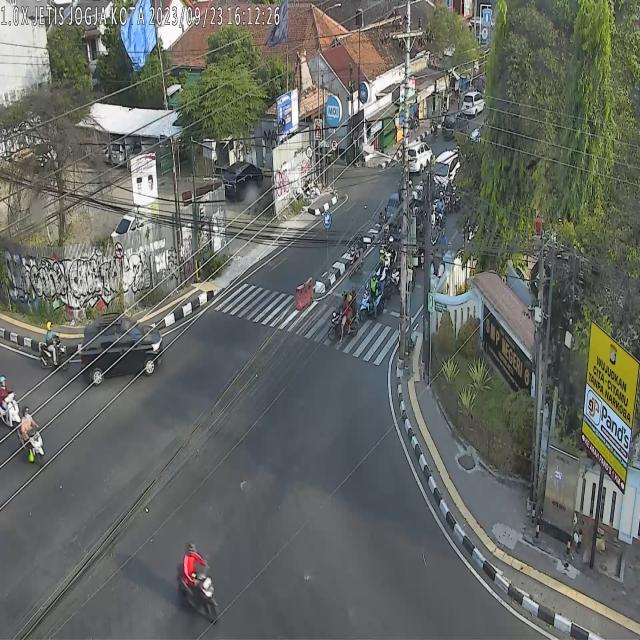car: (81, 315, 163, 388), (431, 150, 462, 188), (408, 142, 434, 173), (442, 110, 469, 138), (462, 91, 486, 118)
motorcycle: (175, 542, 222, 628), (14, 405, 46, 471), (325, 287, 359, 344), (39, 316, 70, 374), (358, 270, 385, 322), (0, 369, 21, 434), (391, 260, 417, 295), (373, 257, 392, 301), (349, 228, 364, 280), (382, 236, 397, 272), (377, 223, 390, 262), (432, 213, 446, 247), (433, 192, 447, 226), (445, 180, 454, 214)
